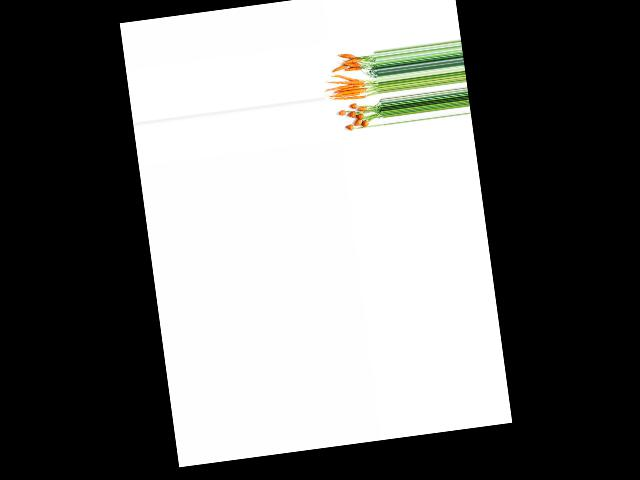carrot: (343, 122, 354, 131)
